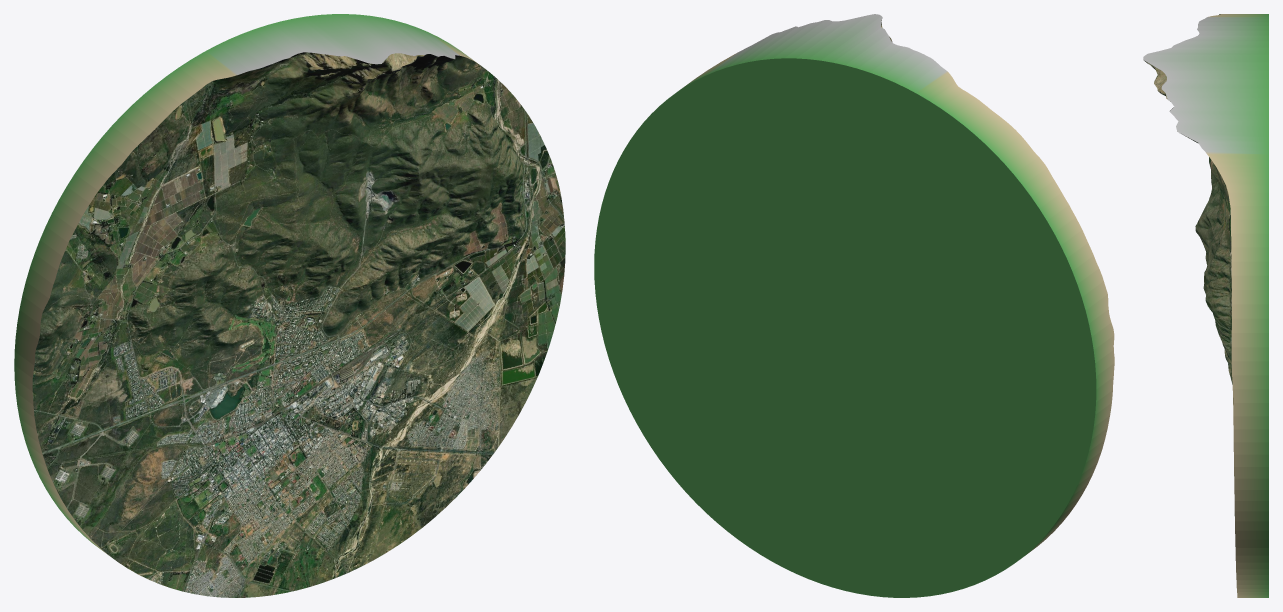
The model's file is worcester.glb.
3 views of the same model, side by side, from view 1: azimuth 30°, elevation 25°; view 2: azimuth 150°, elevation 25°; view 3: azimuth 270°, elevation 25° (orthographic). The views are drawn at different scales.
Size of the model in its own units: 200 by 200 by 43.04.
2 materials, 1 textured.
